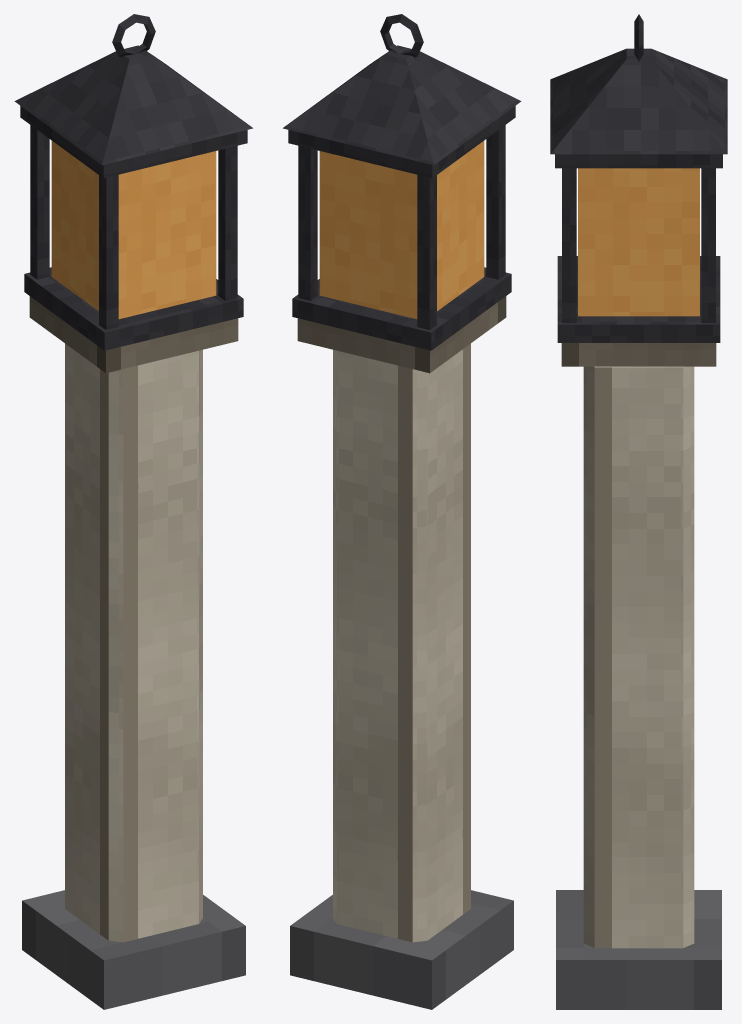
The model's file is lantern_post.obj.
3 views of the same model, side by side, from view 1: azimuth 30°, elevation 25°; view 2: azimuth 150°, elevation 25°; view 3: azimuth 270°, elevation 25° (orthographic).
Visible parts, largest first — view 1: lantern_post; view 2: lantern_post; view 3: lantern_post.
Boxes of the visible parts, bbox=[...] form: lantern_post: bbox=[14, 14, 252, 1009]; lantern_post: bbox=[283, 14, 521, 1009]; lantern_post: bbox=[550, 14, 727, 1009].
Bounding box in the file's own units: 0.3207 × 1.92 × 0.3207.
